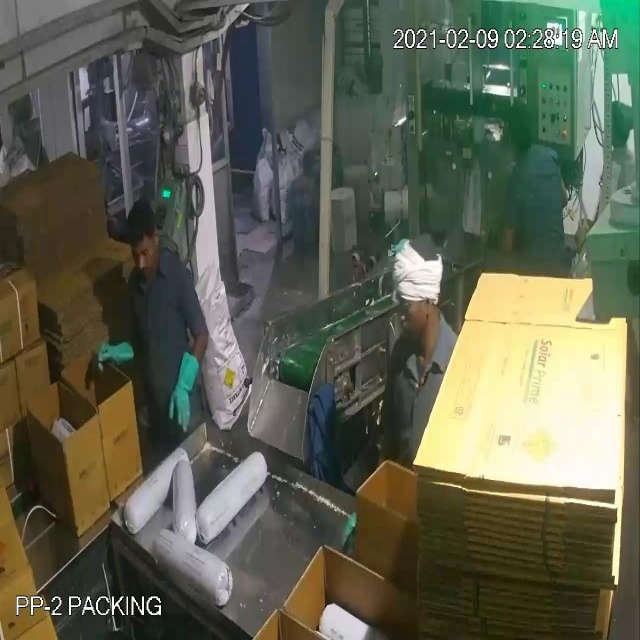Guantes: (170, 341, 199, 436), (86, 335, 138, 380)
